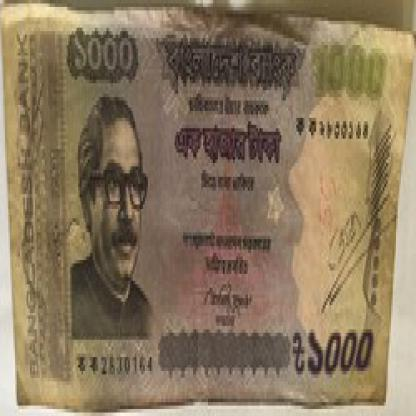One Thousand taka: (308, 38, 388, 104), (291, 326, 378, 378), (70, 28, 136, 86)
